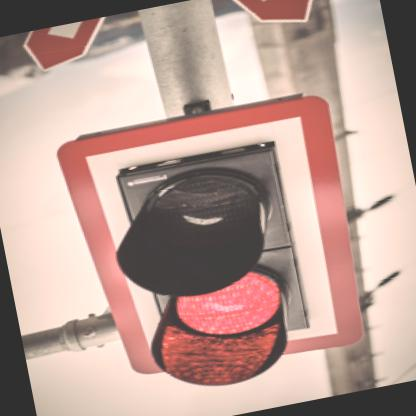trafficlight: (58, 89, 377, 408)
